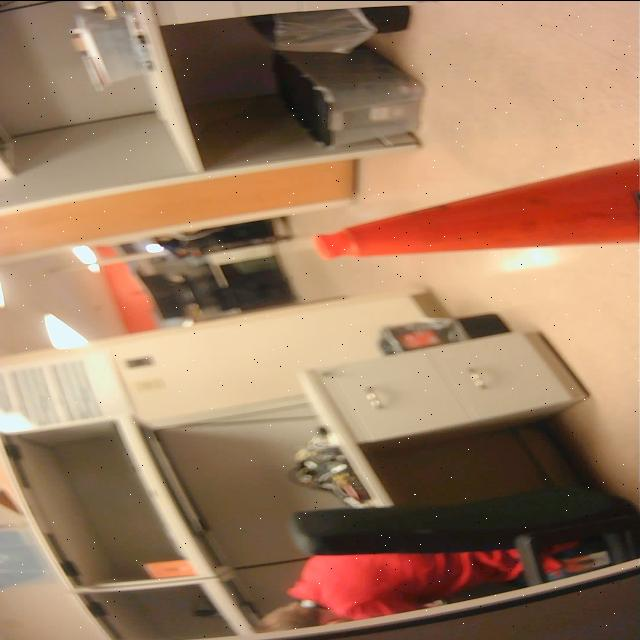traffic cone: (305, 141, 640, 267)
